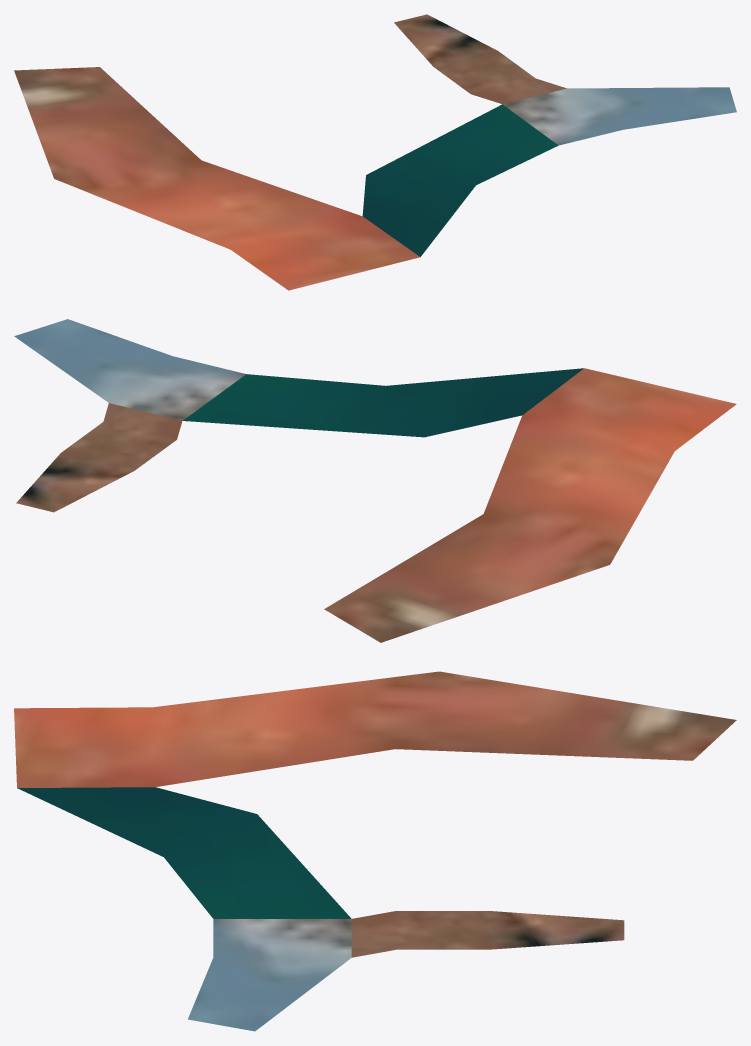
File: my-navmesh.gltf
3 renders of one model, top to bottom at view 1: azimuth 30°, elevation 25°; view 2: azimuth 150°, elevation 25°; view 3: azimuth 270°, elevation 25°, orthographic. The views are drawn at different scales.
Parts seen in each view (by area): view 1: Cube.001; view 2: Cube.001; view 3: Cube.001.
Boxes of the visible parts, x1,y1,x2,y2 form: Cube.001: [14, 14, 736, 290]; Cube.001: [14, 319, 736, 642]; Cube.001: [14, 671, 736, 1031].
Bounding box in the file's own units: 185 × 0 × 157.
1 material, 1 textured.
